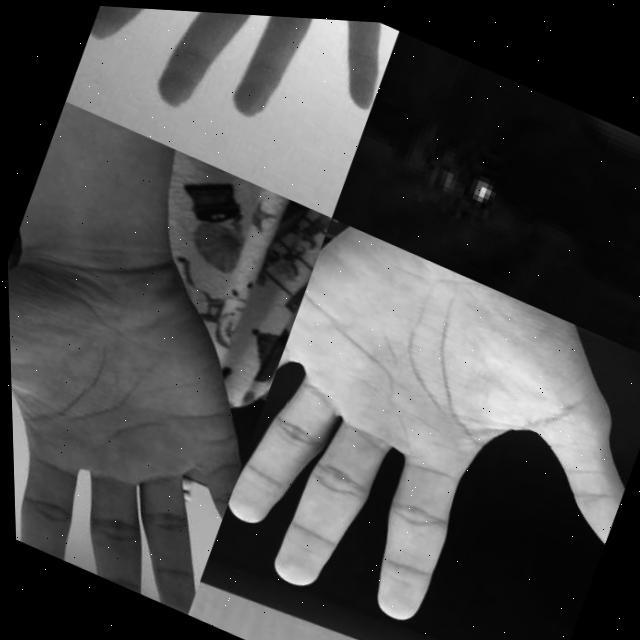no-gloves: (200, 208, 640, 640), (5, 225, 291, 618), (76, 3, 403, 180)
